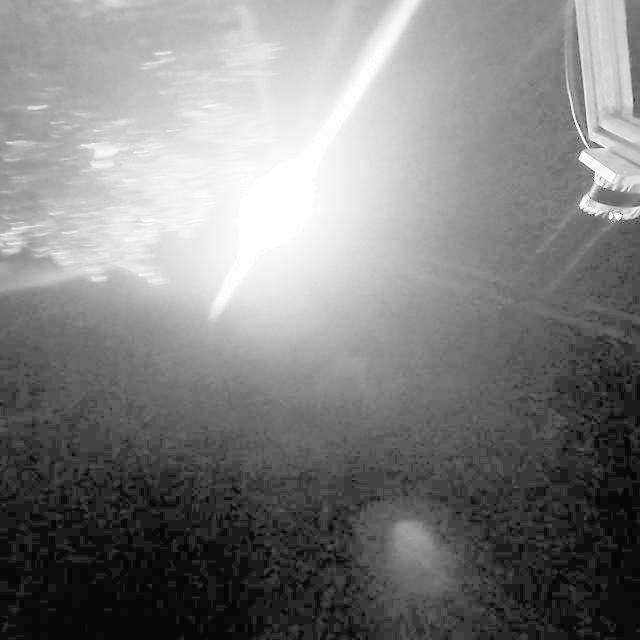Light: (229, 162, 327, 243)
